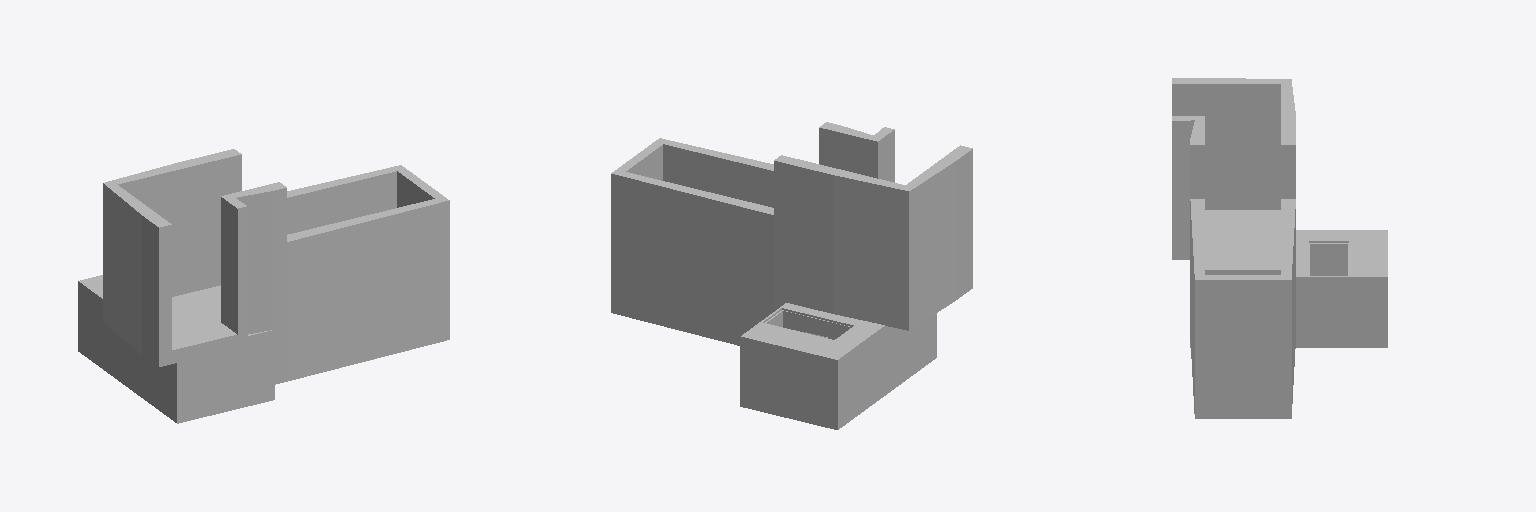
Rendered from Map1.obj.
The picture shows the model from 3 angles: view 1: azimuth 30°, elevation 25°; view 2: azimuth 150°, elevation 25°; view 3: azimuth 270°, elevation 25°; orthographic projection.
Parts seen in each view (by area): view 1: ResultMap_ResultMap_Map_MESH; view 2: ResultMap_ResultMap_Map_MESH; view 3: ResultMap_ResultMap_Map_MESH.
Boxes of the visible parts, box(x1,y1,x2,y2) form: ResultMap_ResultMap_Map_MESH: box(78, 149, 449, 423); ResultMap_ResultMap_Map_MESH: box(611, 122, 972, 429); ResultMap_ResultMap_Map_MESH: box(1172, 78, 1387, 418).
Size of the model in its own units: 23.11 by 15.3 by 14.34.